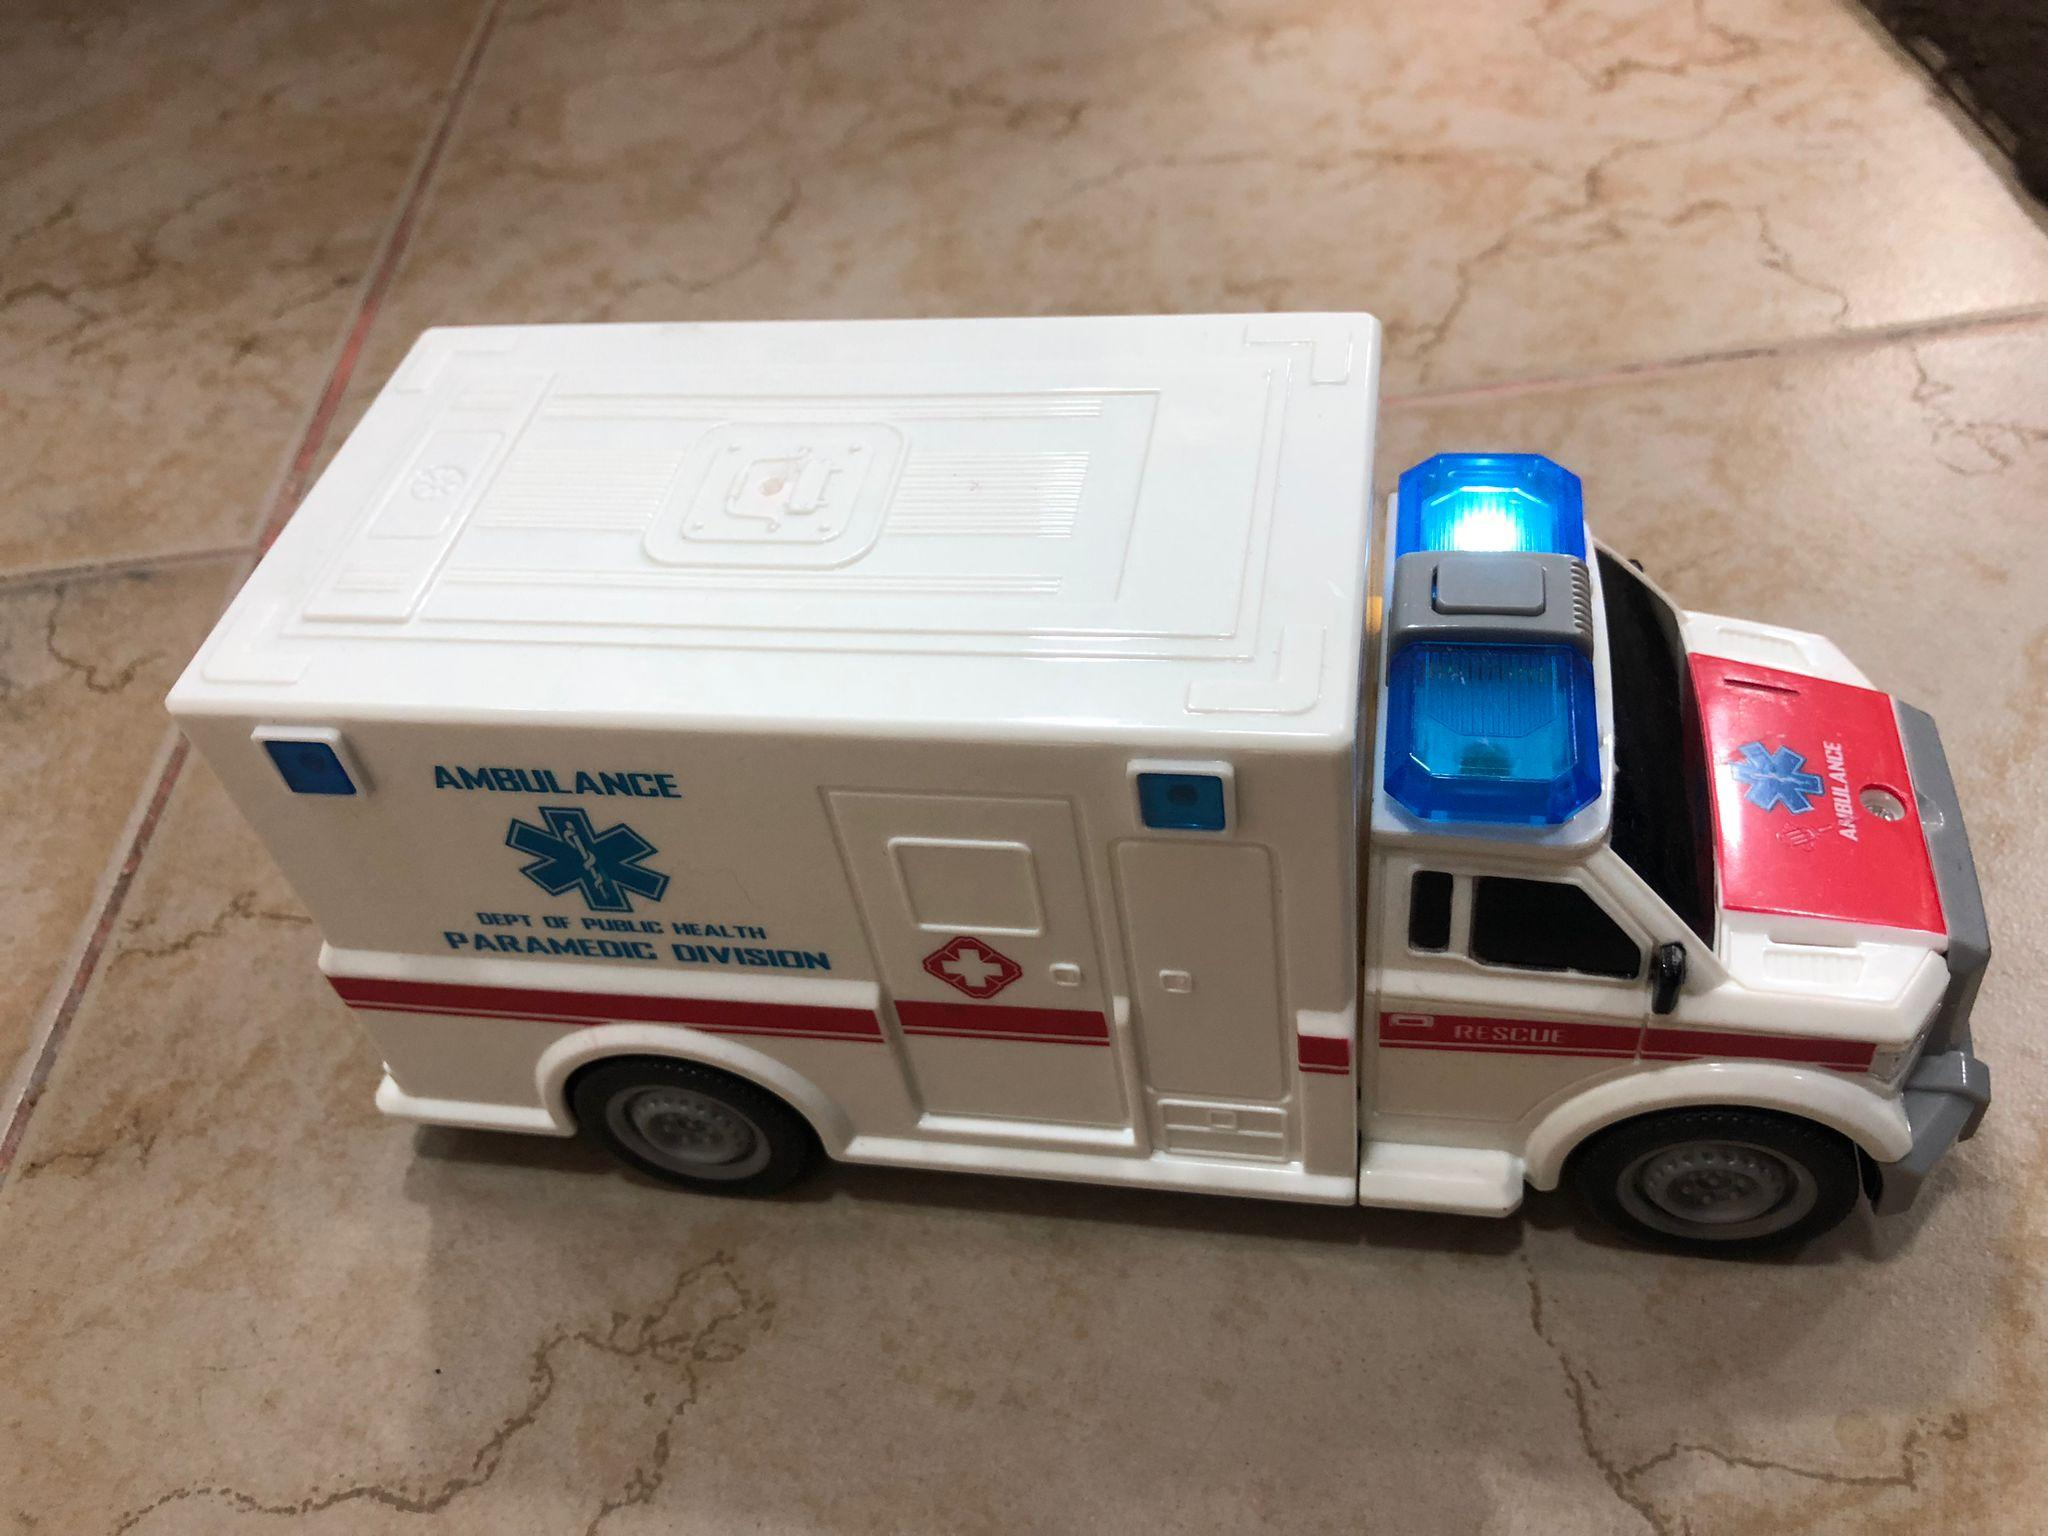ambulance_on: (164, 318, 1995, 1260)
